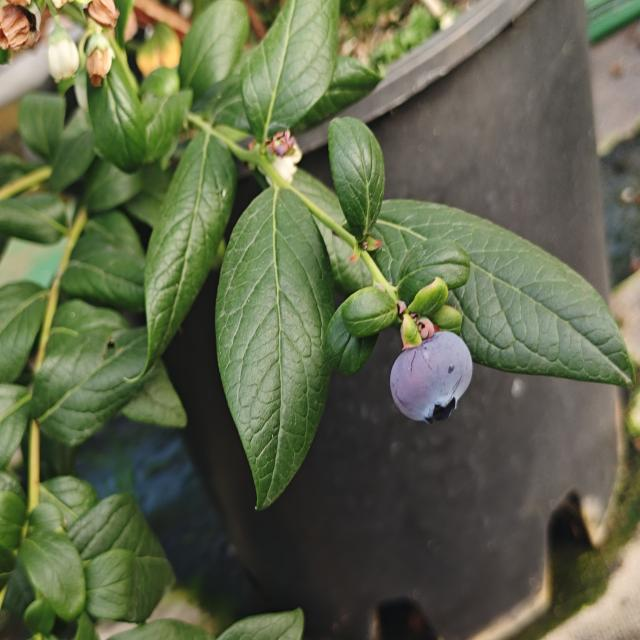ripe: (386, 328, 484, 422)
